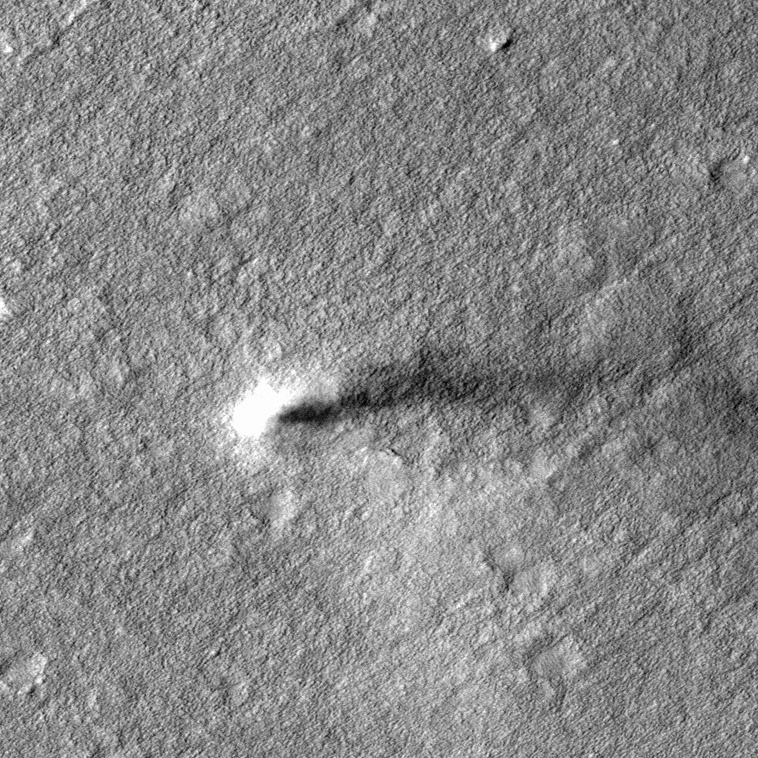dust_devil: (200, 348, 758, 465)
